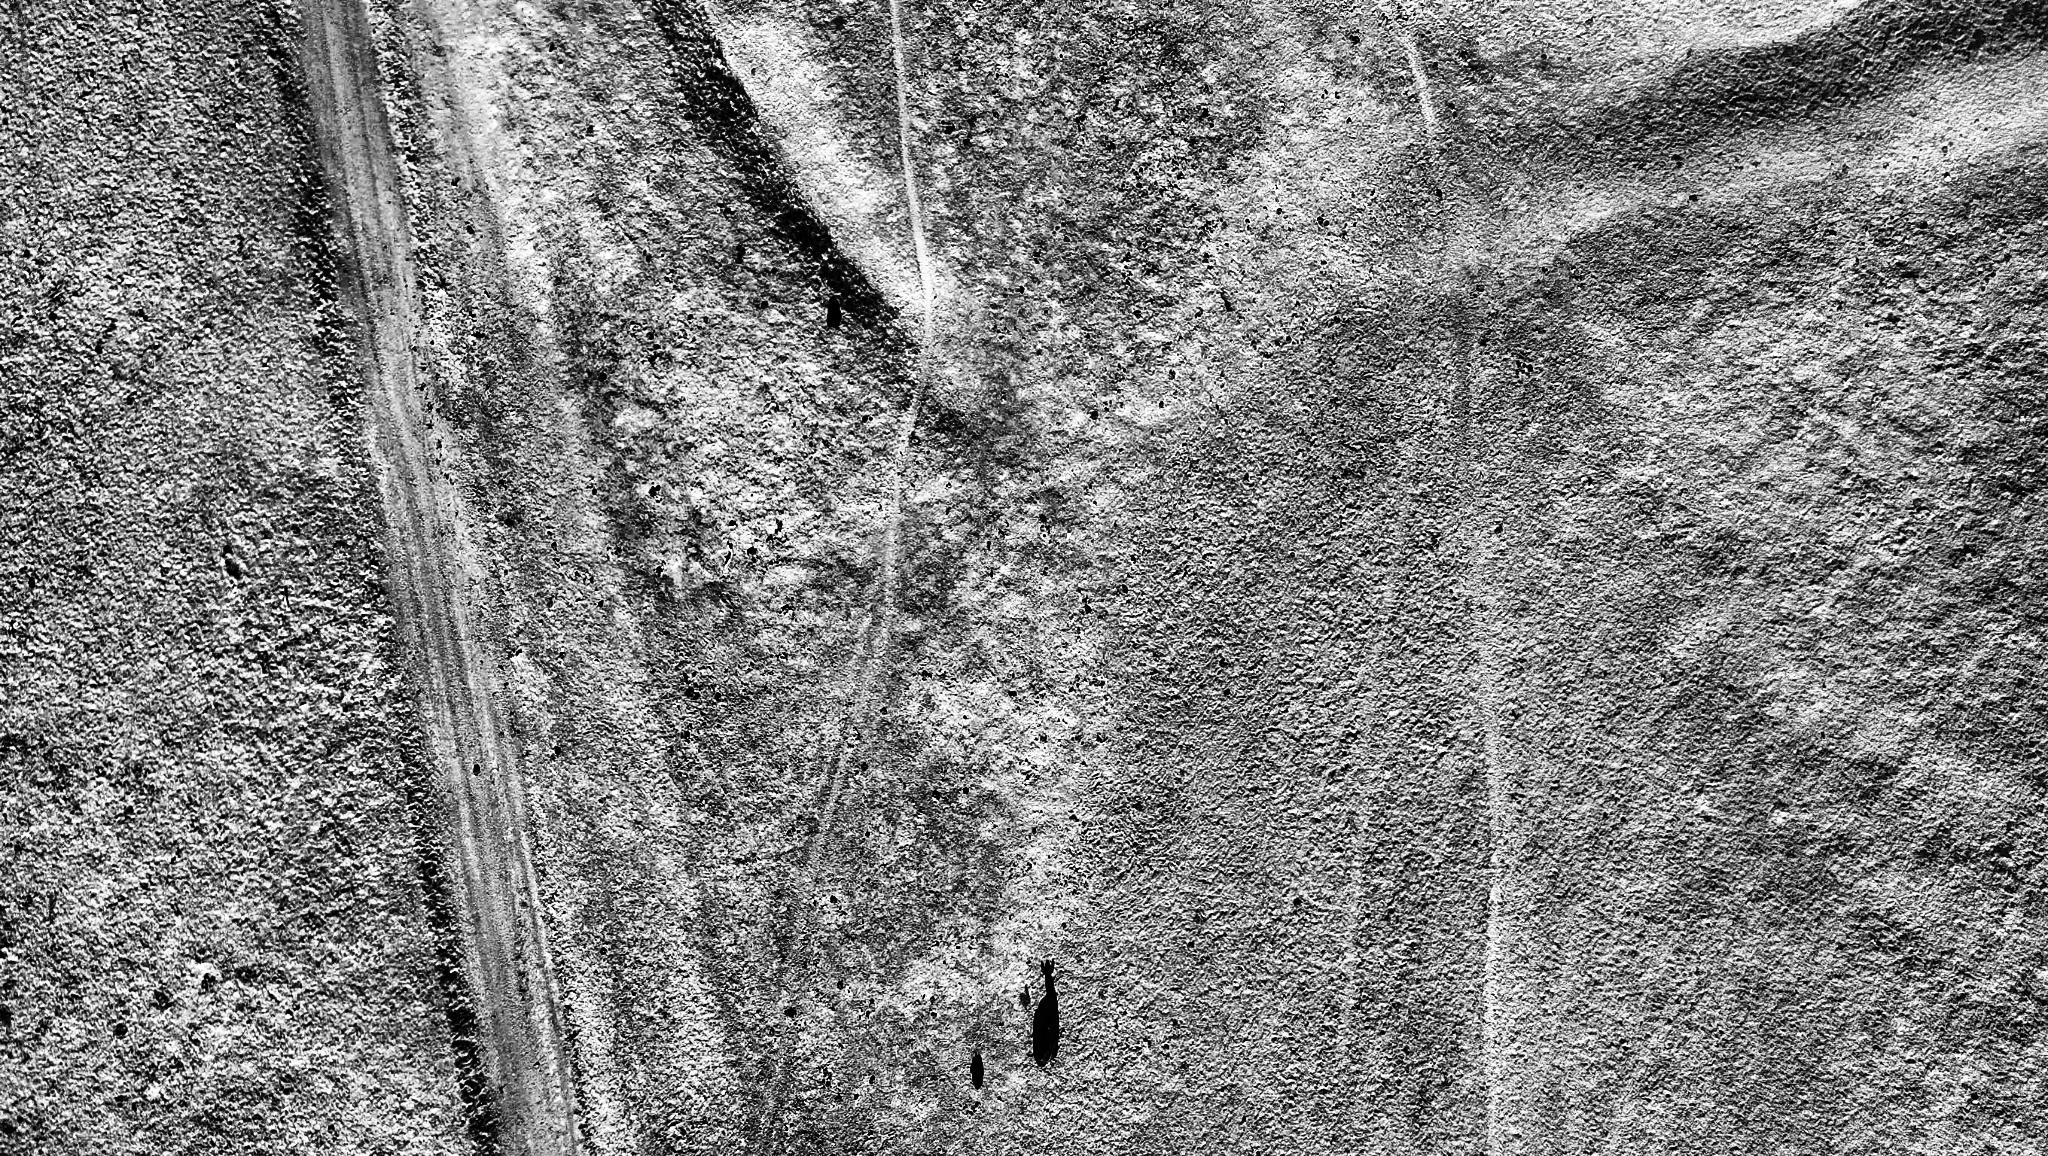herd: (1034, 1026, 1062, 1074), (965, 1058, 995, 1088)
